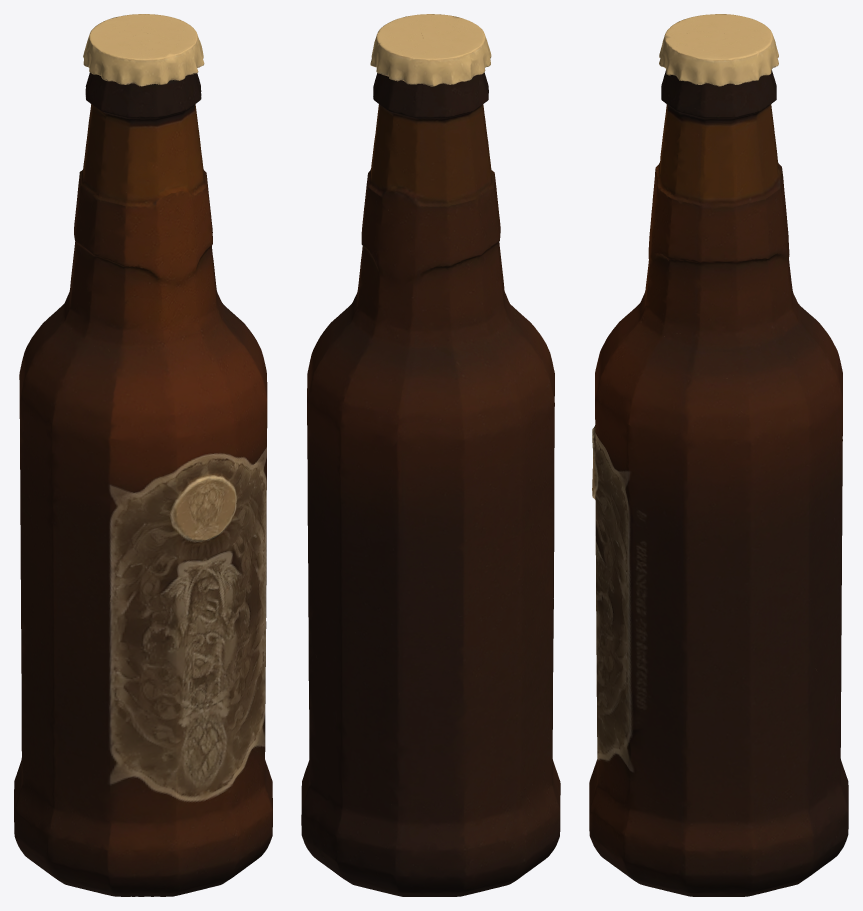
The model's file is Meshy_AI_a_beer_bottle_1009173131_texture.fbx.
3 renders of one model, left to right at view 1: azimuth 30°, elevation 25°; view 2: azimuth 150°, elevation 25°; view 3: azimuth 270°, elevation 25°, orthographic.
Parts seen in each view (by area): view 1: Mesh_0; view 2: Mesh_0; view 3: Mesh_0.
Part boxes in pixels (<box>): Mesh_0: <box>14,14,272,896</box>; Mesh_0: <box>301,14,560,896</box>; Mesh_0: <box>589,14,848,896</box>.
Bounding box in the file's own units: 54.74 × 190 × 54.74.
1 material, 1 textured.
